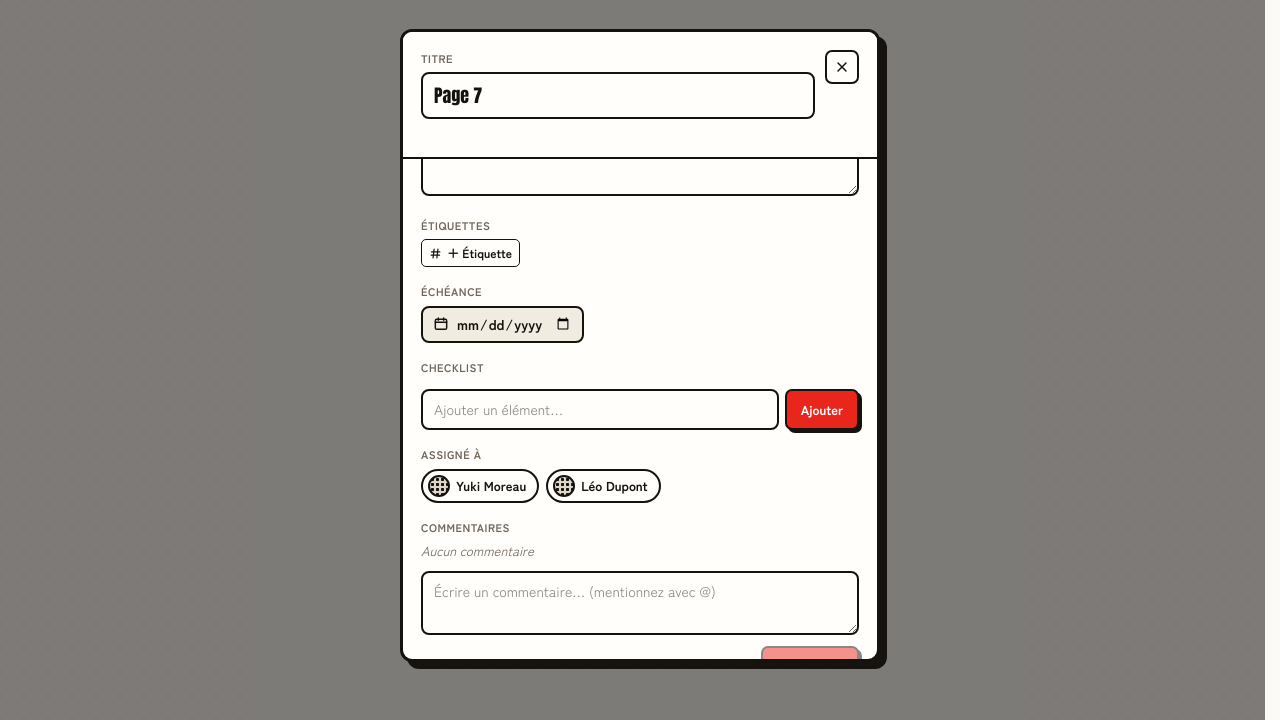
Scenario: CardModal › adds a checklist item
(page scrolled)
Expected: the field labelled "TITRE" is shown, [421, 72, 815, 119]
Type "Corriger" into the field named "Nouvel élément".
click(600, 410); type("Corriger")  # box [421, 389, 779, 430]
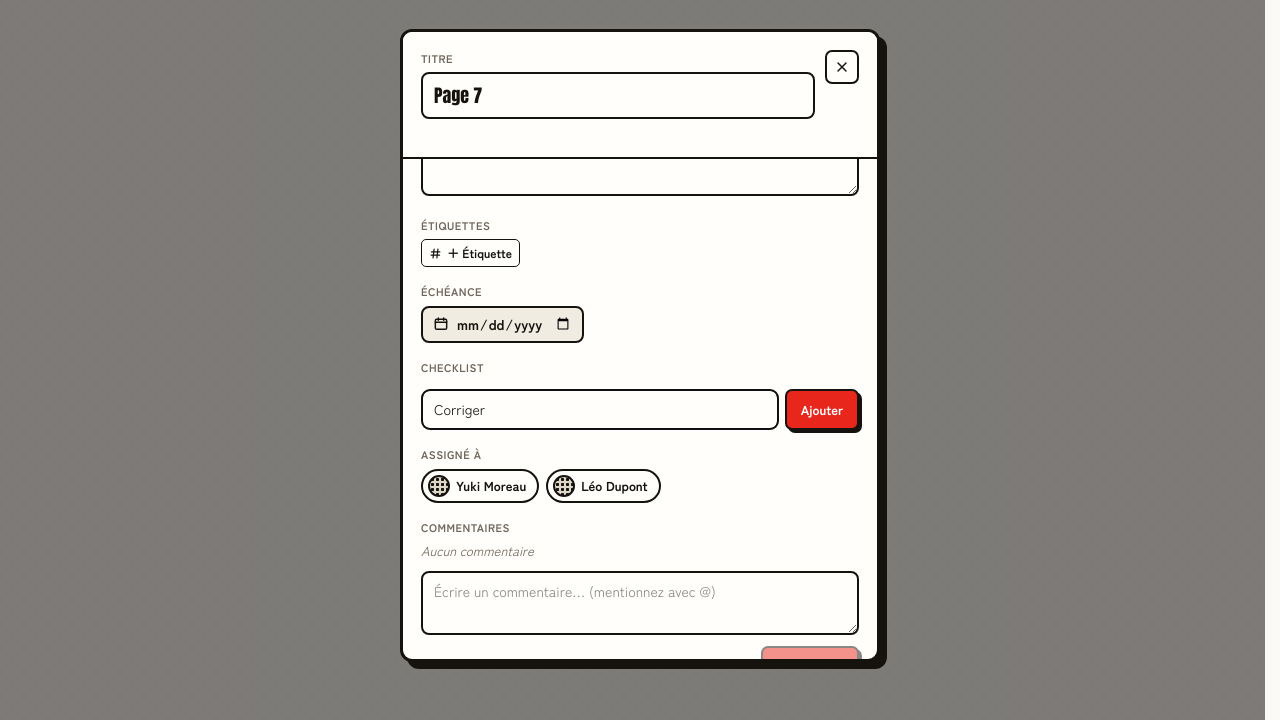
Click the button "Ajouter".
click(822, 410)  # box [785, 389, 859, 430]
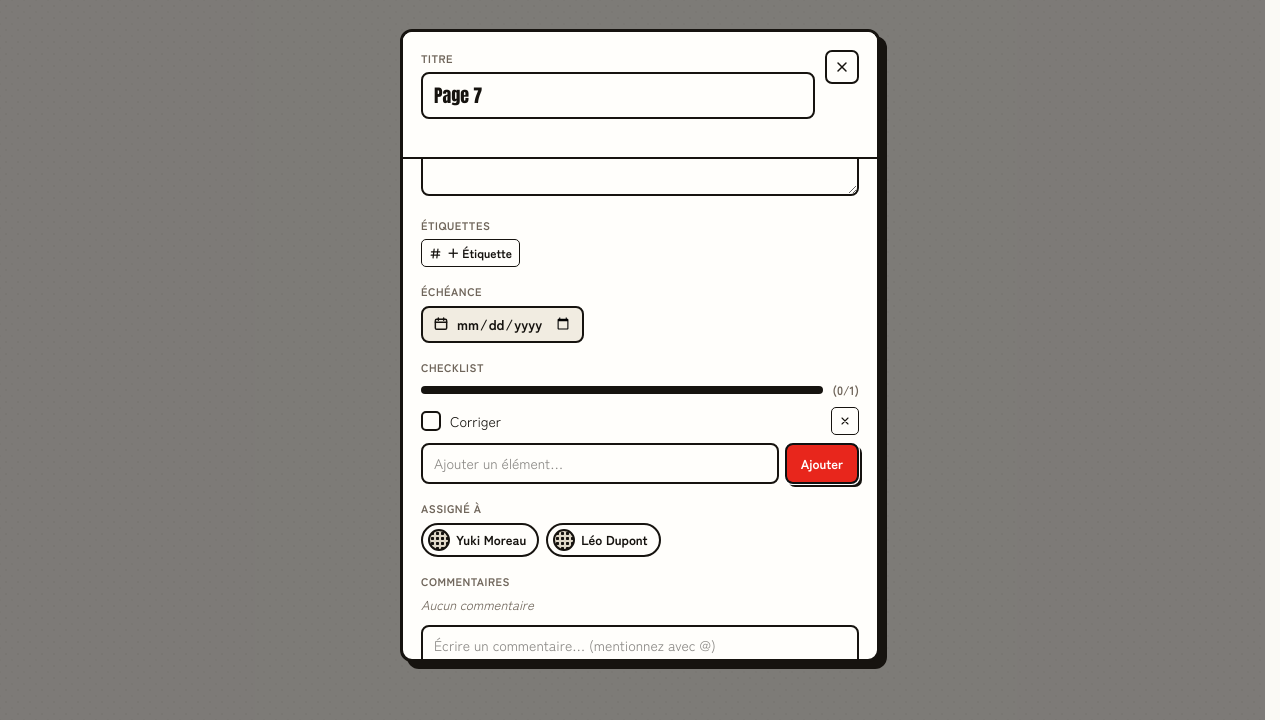
Expected: the text "Corriger" is shown, [450, 411, 501, 432]
